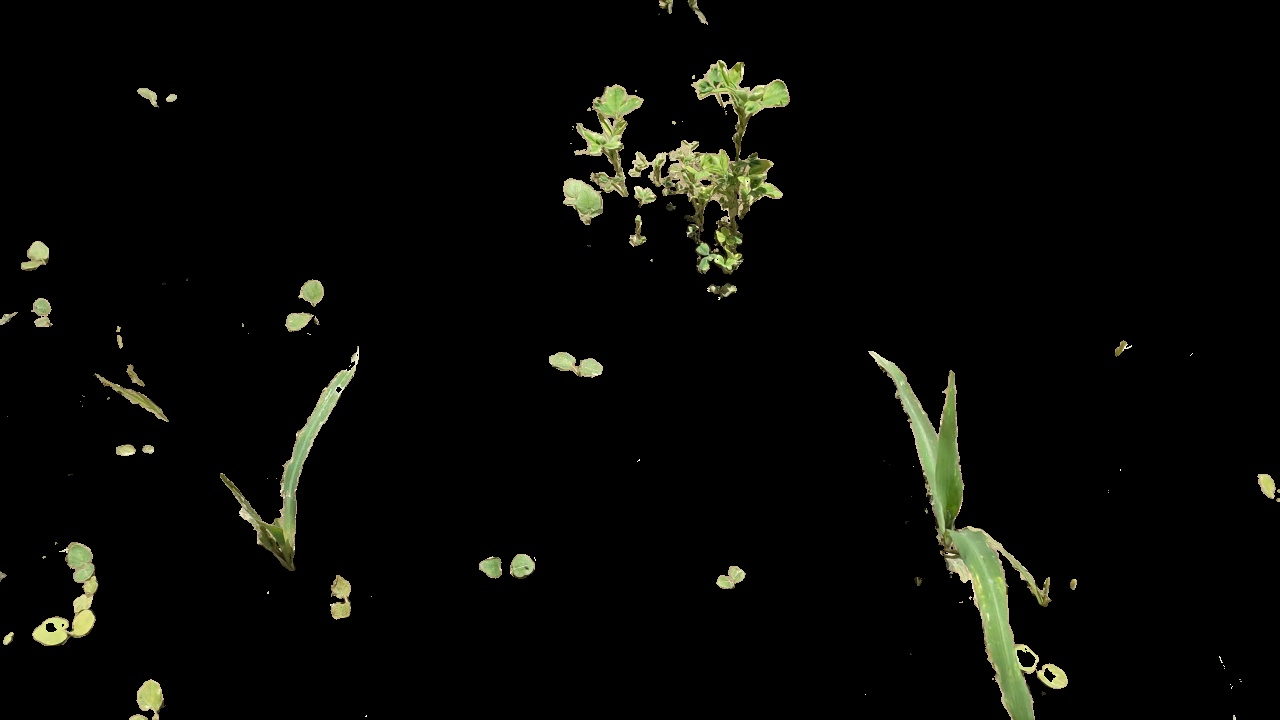crop: (870, 352, 1053, 609), (217, 345, 363, 569)
weed: (560, 57, 795, 323), (16, 533, 101, 646), (286, 271, 332, 336), (1015, 645, 1072, 688), (538, 348, 606, 382), (476, 555, 540, 582), (128, 678, 164, 719), (327, 575, 355, 621), (709, 563, 750, 591), (134, 83, 178, 107), (31, 297, 57, 331), (24, 241, 51, 273), (1255, 467, 1280, 500)
